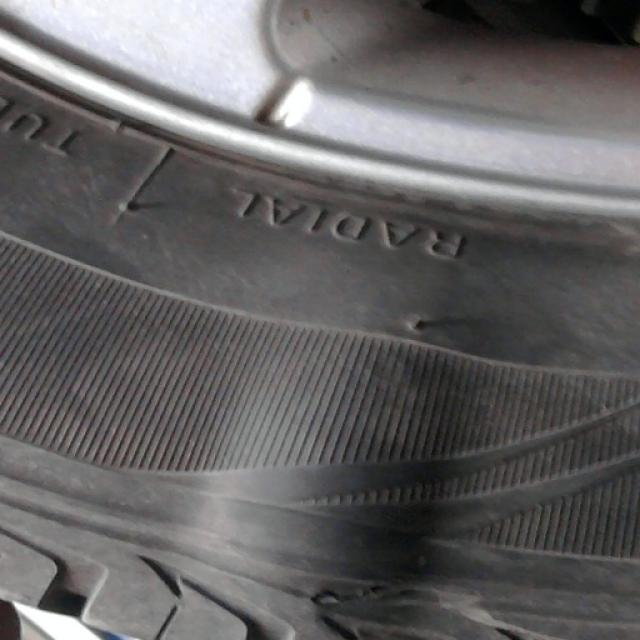Bulge: (194, 324, 474, 615)
